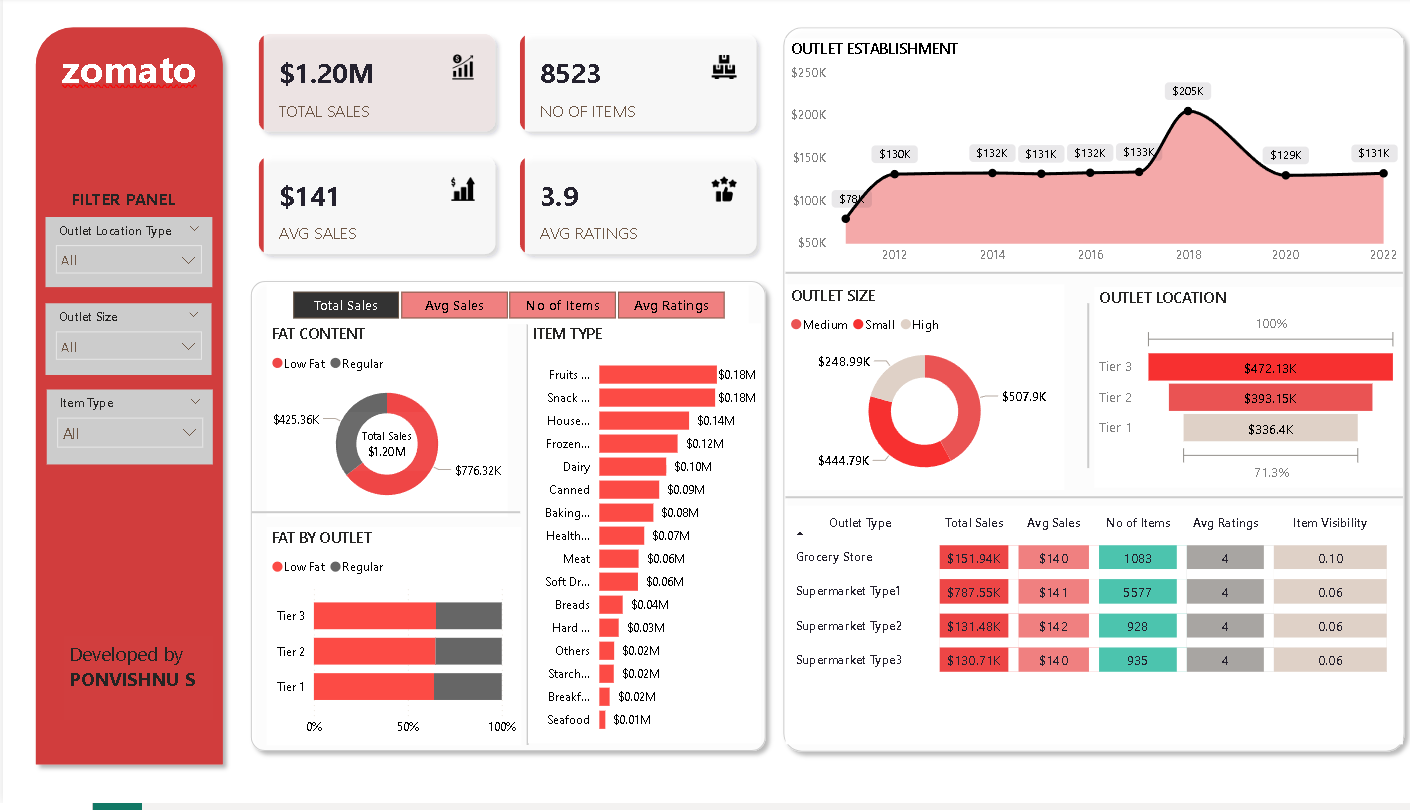

What the dashboard file says about the page in this screenshot:
{"tool":"powerbi","page":{"name":"Page 1","canvas":[1400,800],"ordinal":0},"visuals":[{"type":"shape","box":[23.2,20.6,203.5,749.7],"z":0},{"type":"textbox","box":[36,40.5,178.6,76.5],"z":1000},{"type":"cardVisual","fields":{"Data":["BlinkIT Grocery Data.Total Sales","BlinkIT Grocery Data.Number of Items","BlinkIT Grocery Data.Average Sales","BlinkIT Grocery Data.Average Rating"]},"box":[236.6,20.3,529.1,253.1],"z":2000},{"type":"shape","box":[236.6,273.4,529.1,484.6],"z":3000},{"type":"donutChart","title":"FAT CONTENT","fields":{"Y":["BlinkIT Grocery Data.Total Sales"],"Category":["BlinkIT Grocery Data.Item Fat Content"]},"box":[262,324.3,239.1,192],"z":4000},{"type":"slicer","fields":{"Values":["Metrices.Metrices"]},"box":[262,284.9,478.2,39.4],"z":5000},{"type":"cardVisual","fields":{"Data":["BlinkIT Grocery Data.Total Sales"]},"box":[331.9,412.1,97.9,58.5],"z":6000},{"type":"hundredPercentStackedBarChart","title":"FAT BY OUTLET","fields":{"Y":["BlinkIT Grocery Data.Total Sales"],"Category":["BlinkIT Grocery Data.Outlet Location Type"],"Series":["BlinkIT Grocery Data.Item Fat Content"]},"box":[261.5,525.6,252.5,216.4],"z":7000},{"type":"shape","box":[514,324.6,14.2,417.4],"z":8000},{"type":"barChart","title":"ITEM TYPE","fields":{"Y":["BlinkIT Grocery Data.Total Sales"],"Category":["BlinkIT Grocery Data.Item Type"]},"box":[521.4,324.3,231.5,417.2],"z":9000},{"type":"shape","box":[247.3,506.3,266.7,10.3],"z":10000},{"type":"shape","box":[765.6,21.1,634.7,737],"z":11000},{"type":"lineChart","title":"OUTLET ESTABLISHMENT","fields":{"Y":["BlinkIT Grocery Data.Total Sales"],"Category":["BlinkIT Grocery Data.Outlet Establishment Year"]},"box":[777.2,40.8,612.9,233.2],"z":12000},{"type":"shape","box":[776.8,269.2,613.2,9],"z":13000},{"type":"donutChart","title":"OUTLET SIZE","fields":{"Category":["BlinkIT Grocery Data.Outlet Size"],"Y":["Sum(BlinkIT Grocery Data.Sales)"]},"box":[777.2,285.4,276.5,203.9],"z":14000},{"type":"funnel","title":"OUTLET LOCATION","fields":{"Y":["Sum(BlinkIT Grocery Data.Sales)"],"Category":["BlinkIT Grocery Data.Outlet Location Type"]},"box":[1083.4,287.5,306.6,199.3],"z":15000},{"type":"shape","box":[776.8,489.5,613.2,12.9],"z":16000},{"type":"shape","box":[1070.5,304,12.9,163.6],"z":17000},{"type":"pivotTable","fields":{"Rows":["BlinkIT Grocery Data.Outlet Type"],"Values":["BlinkIT Grocery Data.Total Sales","BlinkIT Grocery Data.Avg Sales","BlinkIT Grocery Data.No of Items","BlinkIT Grocery Data.Avg Ratings","Avg(BlinkIT Grocery Data.Item Visibility)"]},"box":[776.8,505,613.2,237],"z":18000},{"type":"slicer","fields":{"Values":["BlinkIT Grocery Data.Outlet Size"]},"box":[42.5,304,164.9,70.9],"z":19000},{"type":"slicer","fields":{"Values":["BlinkIT Grocery Data.Outlet Location Type"]},"box":[42,218.8,165.3,69.9],"z":20000},{"type":"slicer","fields":{"Values":["BlinkIT Grocery Data.Item Type"]},"box":[43.8,389,164.9,74.7],"z":21000},{"type":"textbox","box":[63.3,183.6,125.3,47.1],"z":22000},{"type":"textbox","box":[60.4,633.9,148.3,84],"z":22001}]}

Visuals, with their boxes in screenshot pixels (x1, y1, x2, y2), scaled from the page's 1400x800 canvas onto the 1426x810 screenshot:
shape: x1=24, y1=21, x2=231, y2=780
textbox: x1=37, y1=41, x2=219, y2=118
cardVisual - BlinkIT Grocery Data.Total Sales x BlinkIT Grocery Data.Number of Items: x1=241, y1=21, x2=780, y2=277
shape: x1=241, y1=277, x2=780, y2=767
"FAT CONTENT" donutChart: x1=267, y1=328, x2=510, y2=523
slicer - Metrices.Metrices: x1=267, y1=288, x2=754, y2=328
cardVisual - BlinkIT Grocery Data.Total Sales: x1=338, y1=417, x2=438, y2=476
"FAT BY OUTLET" hundredPercentStackedBarChart: x1=266, y1=532, x2=524, y2=751
shape: x1=524, y1=329, x2=538, y2=751
"ITEM TYPE" barChart: x1=531, y1=328, x2=767, y2=751
shape: x1=252, y1=513, x2=524, y2=523
shape: x1=780, y1=21, x2=1425, y2=768
"OUTLET ESTABLISHMENT" lineChart: x1=792, y1=41, x2=1416, y2=277
shape: x1=791, y1=273, x2=1416, y2=282
"OUTLET SIZE" donutChart: x1=792, y1=289, x2=1073, y2=495
"OUTLET LOCATION" funnel: x1=1104, y1=291, x2=1416, y2=493
shape: x1=791, y1=496, x2=1416, y2=509
shape: x1=1090, y1=308, x2=1104, y2=473
pivotTable - BlinkIT Grocery Data.Outlet Type x BlinkIT Grocery Data.Total Sales: x1=791, y1=511, x2=1416, y2=751
slicer - BlinkIT Grocery Data.Outlet Size: x1=43, y1=308, x2=211, y2=380
slicer - BlinkIT Grocery Data.Outlet Location Type: x1=43, y1=222, x2=211, y2=292
slicer - BlinkIT Grocery Data.Item Type: x1=45, y1=394, x2=213, y2=469
textbox: x1=64, y1=186, x2=192, y2=234
textbox: x1=62, y1=642, x2=213, y2=727
